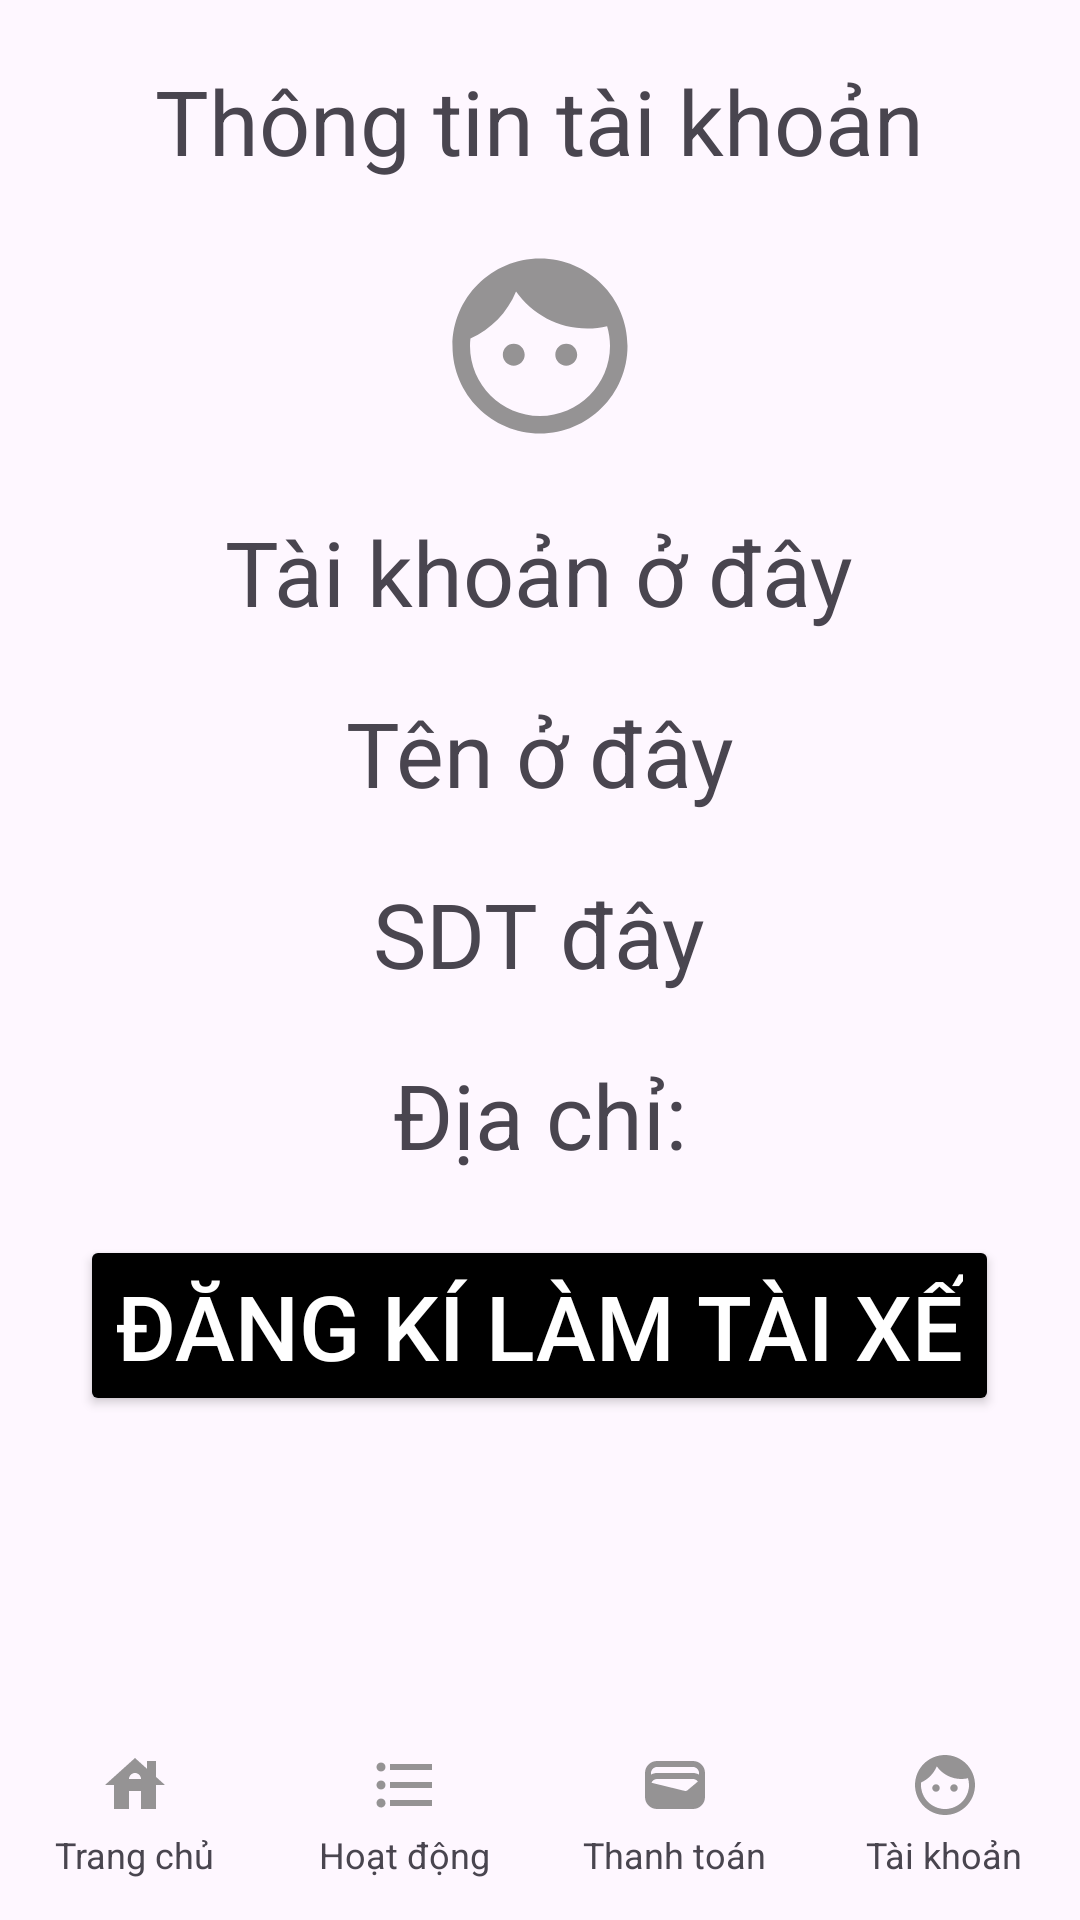

Screen size 1080px×1920px. Icon name, then its box in pixels as {"x1": x1, "y1": y1, "x2": x2, "y2": y2}:
face: {"x1": 452, "y1": 258, "x2": 628, "y2": 434}, {"x1": 915, "y1": 1755, "x2": 975, "y2": 1815}
house: {"x1": 105, "y1": 1758, "x2": 165, "y2": 1809}
list: {"x1": 376, "y1": 1762, "x2": 432, "y2": 1808}
wallet: {"x1": 645, "y1": 1761, "x2": 705, "y2": 1809}
